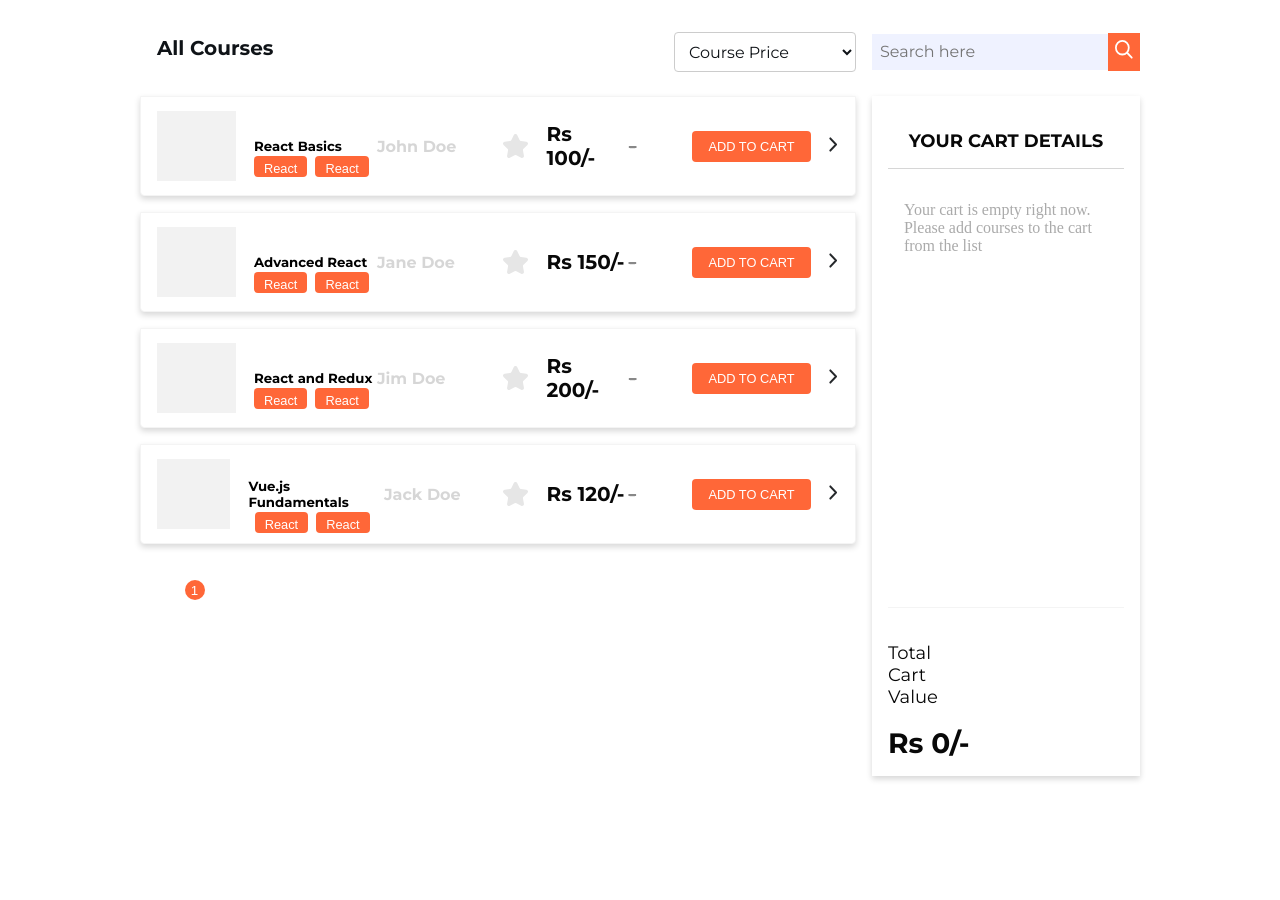
Test: CourseList Component › shows popup message when a course is added to the cart
This screenshot has width=1280, height=900.
Click the button "ADD TO CART" next to "100": (752, 146) [692,130,810,162]
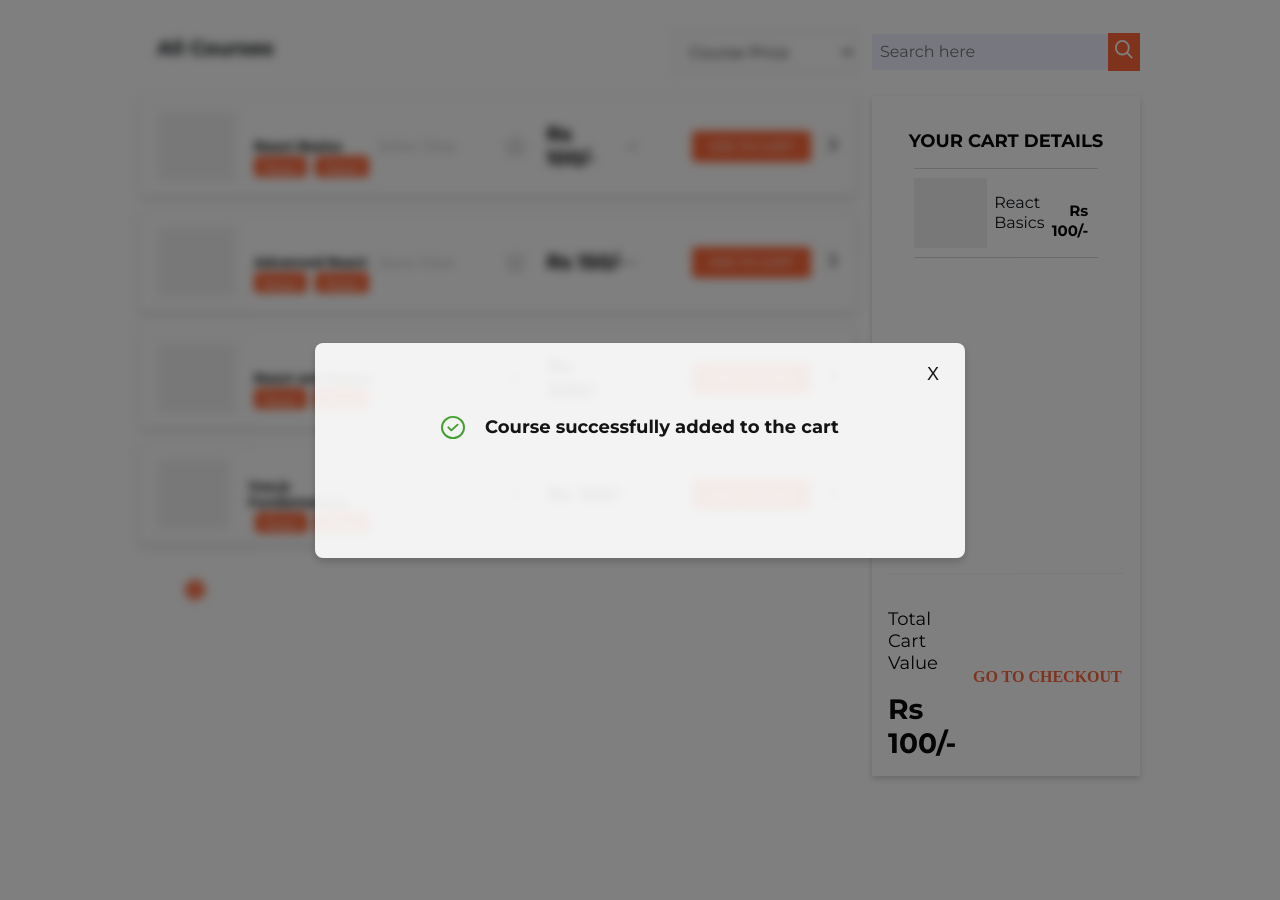
expect the text "Course successfully added to the cart" is shown: met, box [441,416,839,440]
